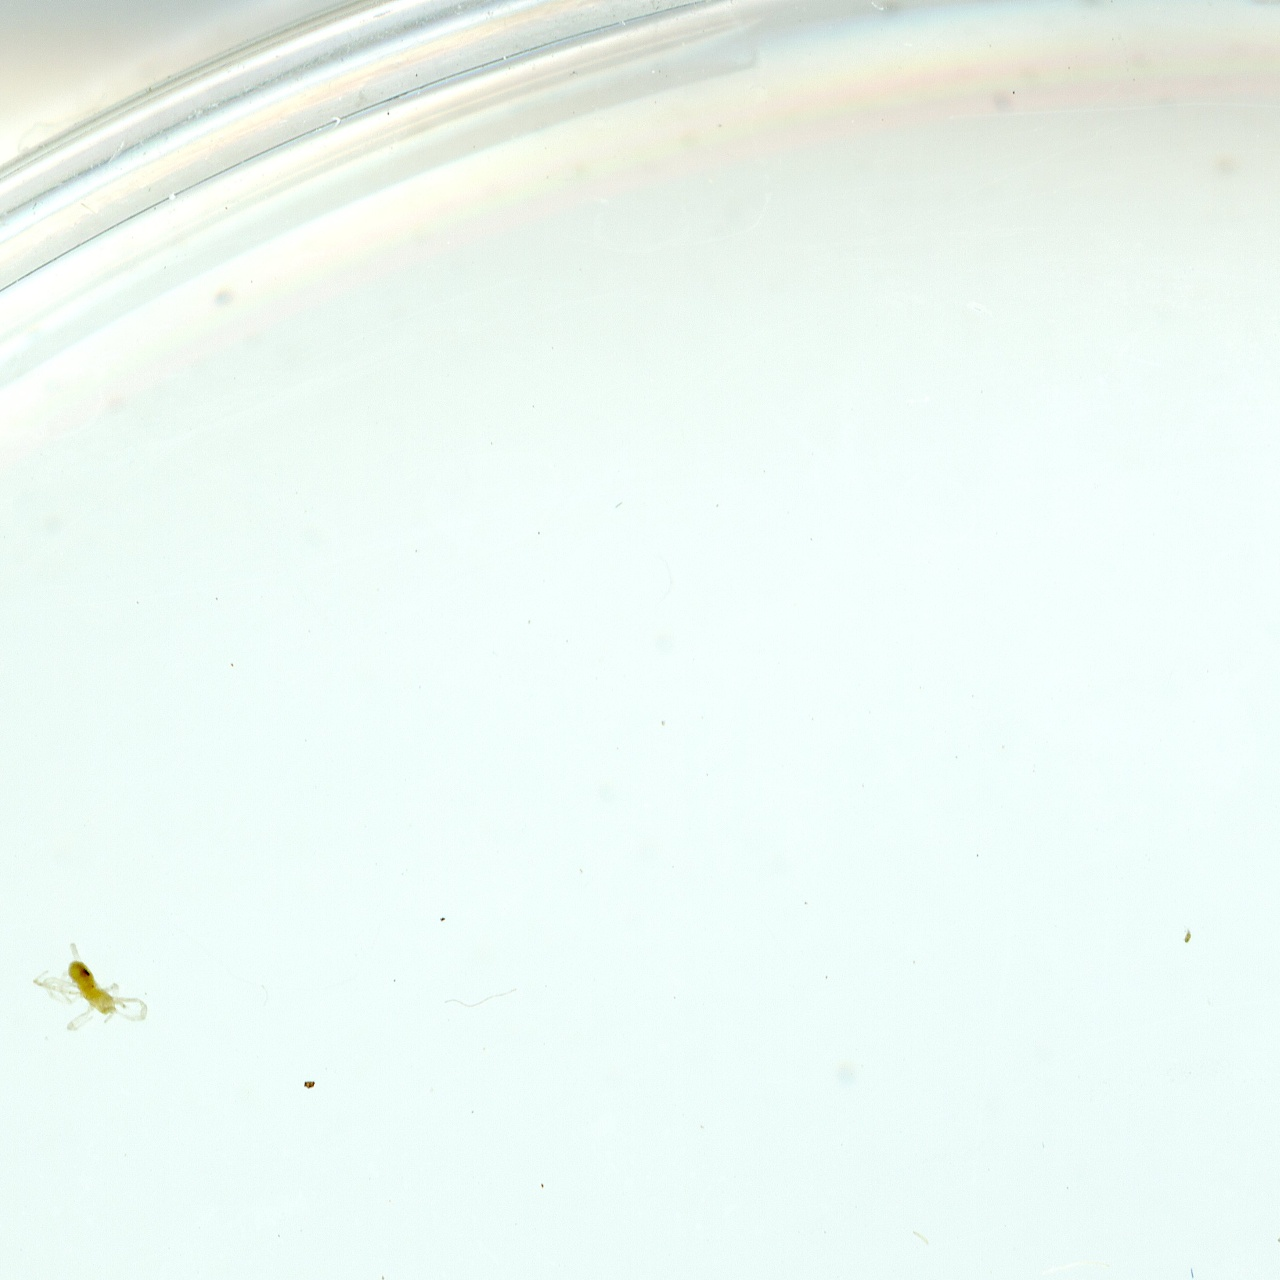arthropod: (25, 925, 162, 1042)
